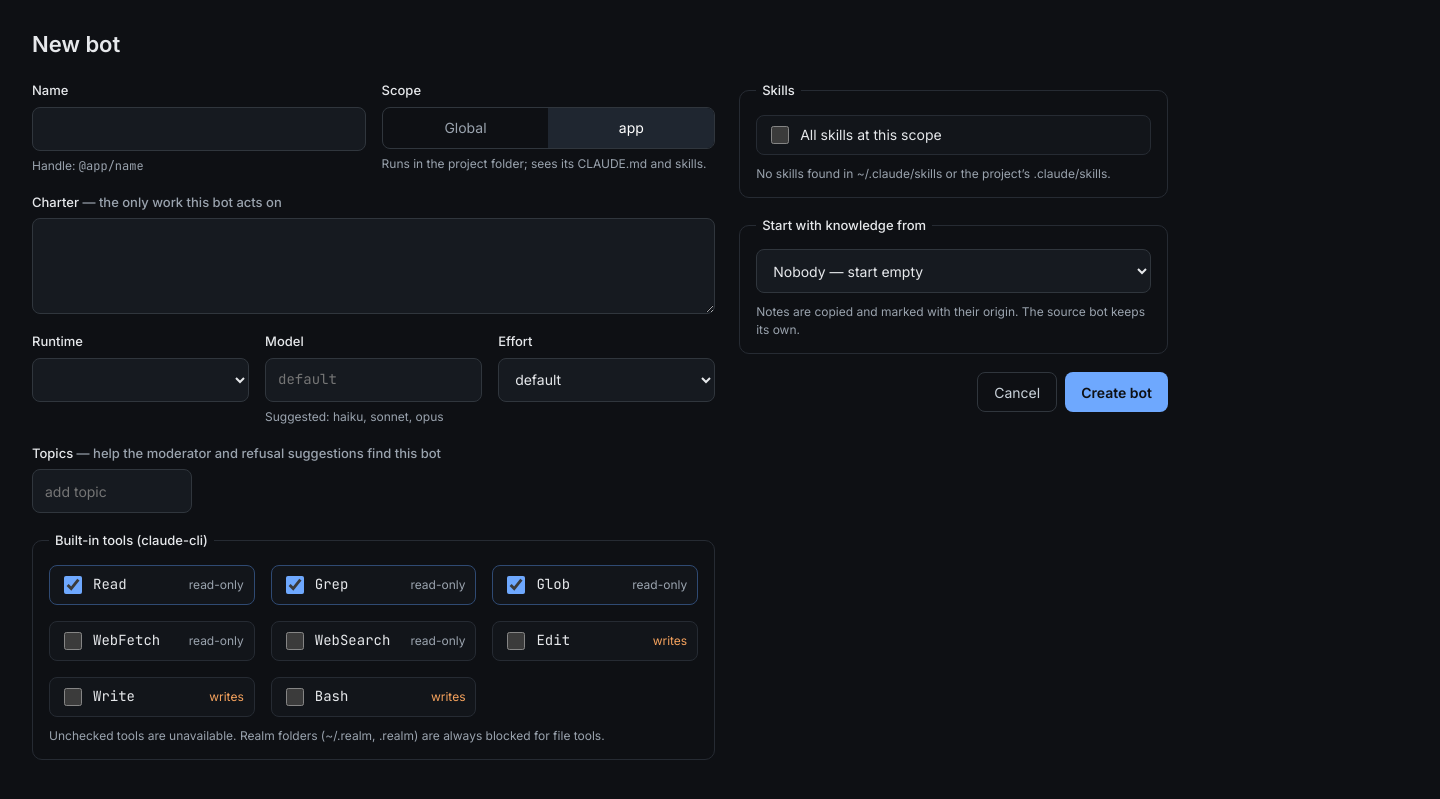
it: BotForm › warns when a write-capable tool is granted
Click the checkbox labelled "Bash writes".
click(295, 696)  # box [286,688,304,706]
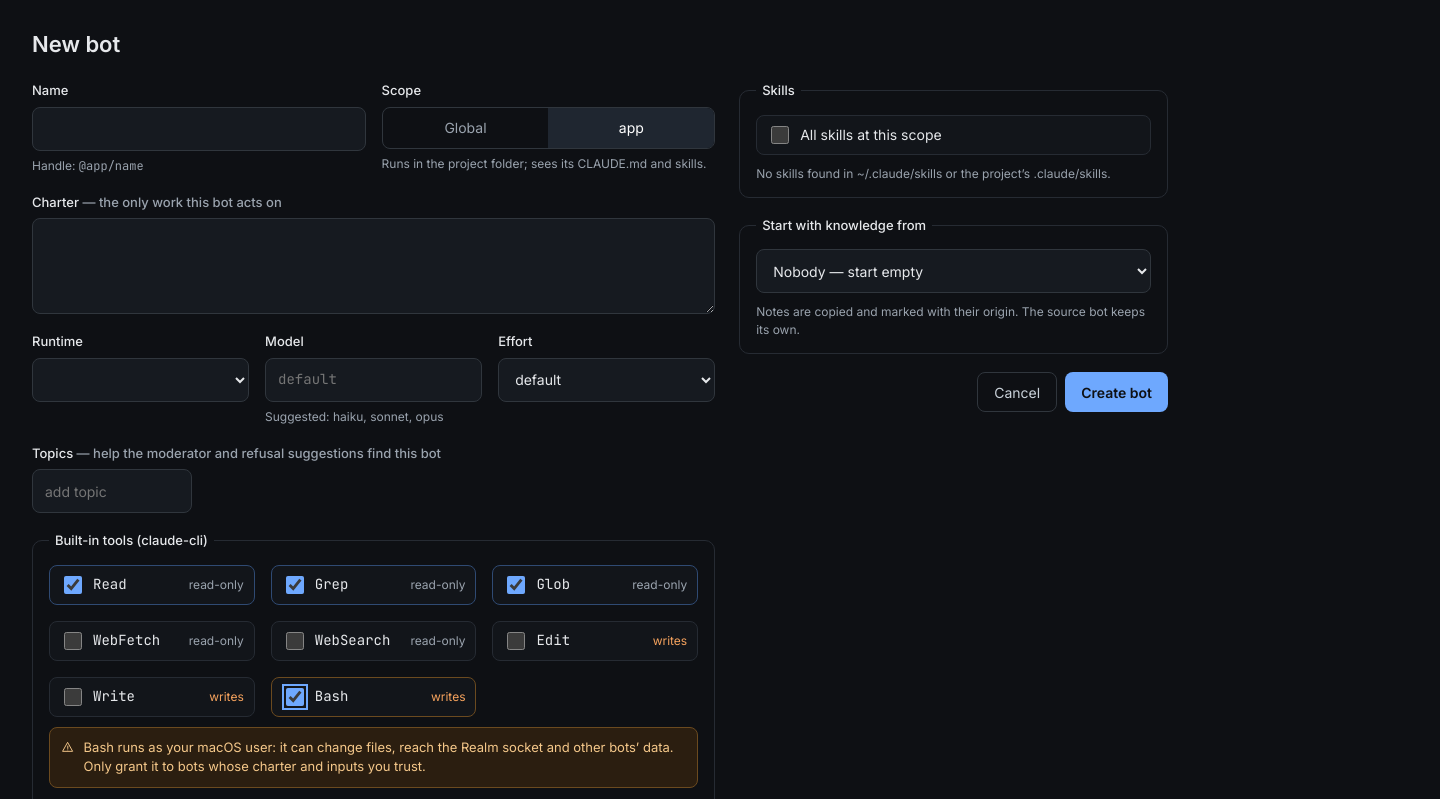
Expected: the text "@app/name" is shown, [79,158,144,174]
Expected: the message shows "Bash runs as your macOS user", [49,726,698,788]
